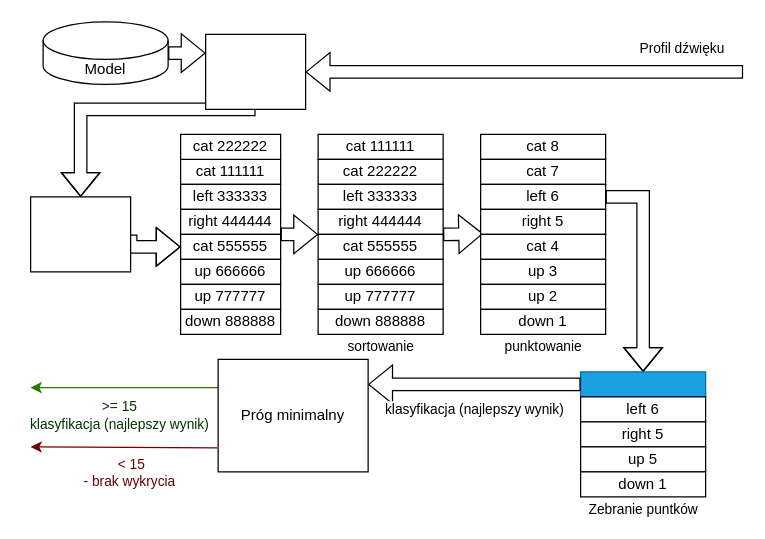
The diagram is 765 pixels wide and 539 high, and some of its shapes have lost their labels. The centre of each missing label's shape, as x and y in pixels:
"8 najmniejszych różnic" goes at (x=80, y=234).
"cat 23" goes at (x=642, y=384).
"Obliczenie różnic" goes at (x=255, y=71).
